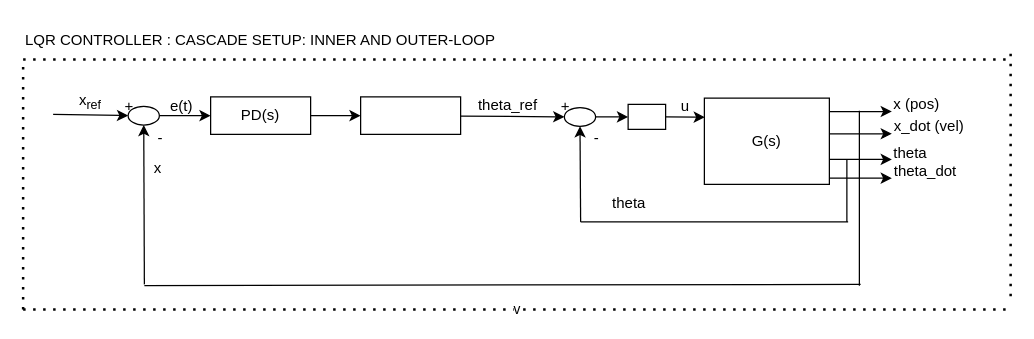
Image size: 1034x339. Some labels were removed from this diagram. The centre of each missing label's shape, as x and y in pixels:
-K: (x=646, y=116)
sat( - ): (x=410, y=115)
